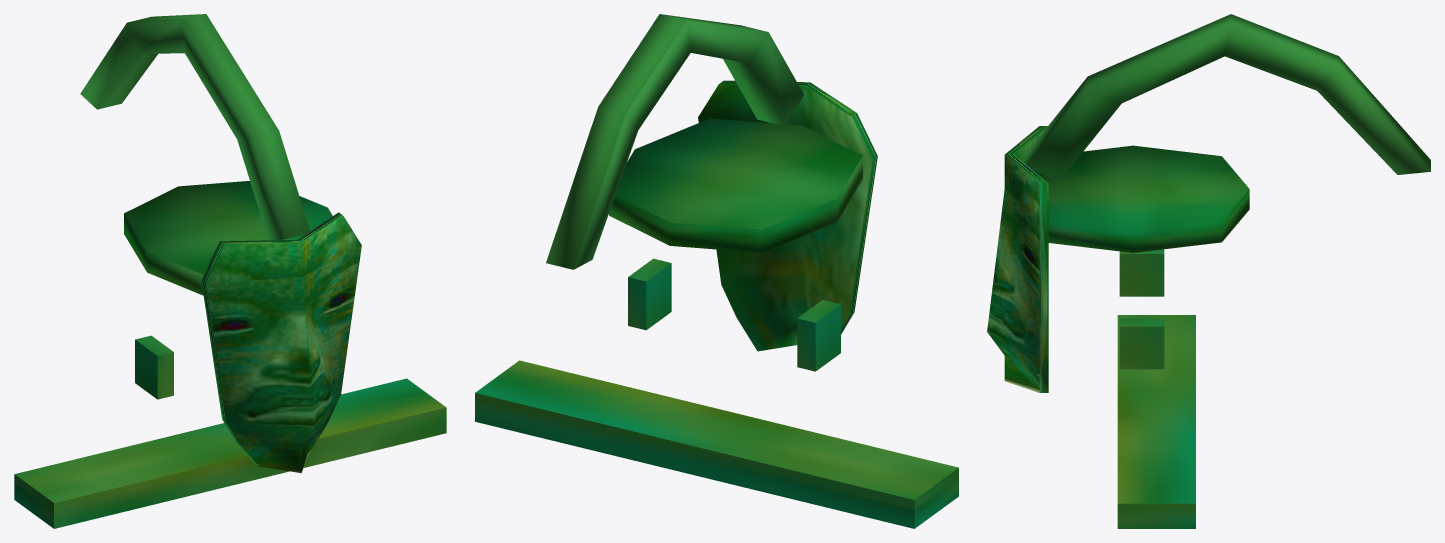
The model's file is masc_olmec_2.dae.
The picture shows the model from 3 angles, left to right: view 1: azimuth 30°, elevation 25°; view 2: azimuth 150°, elevation 25°; view 3: azimuth 270°, elevation 25°; orthographic projection. The views are drawn at different scales.
Parts seen in each view (by area): view 1: olmec_masc_2; view 2: olmec_masc_2; view 3: olmec_masc_2.
Part boxes in pixels (x1,y1,x2,y2): olmec_masc_2: (14,14,446,528); olmec_masc_2: (475,14,958,528); olmec_masc_2: (987,14,1430,528).
Size of the model in its own units: 1.03 by 1.03 by 1.06.
